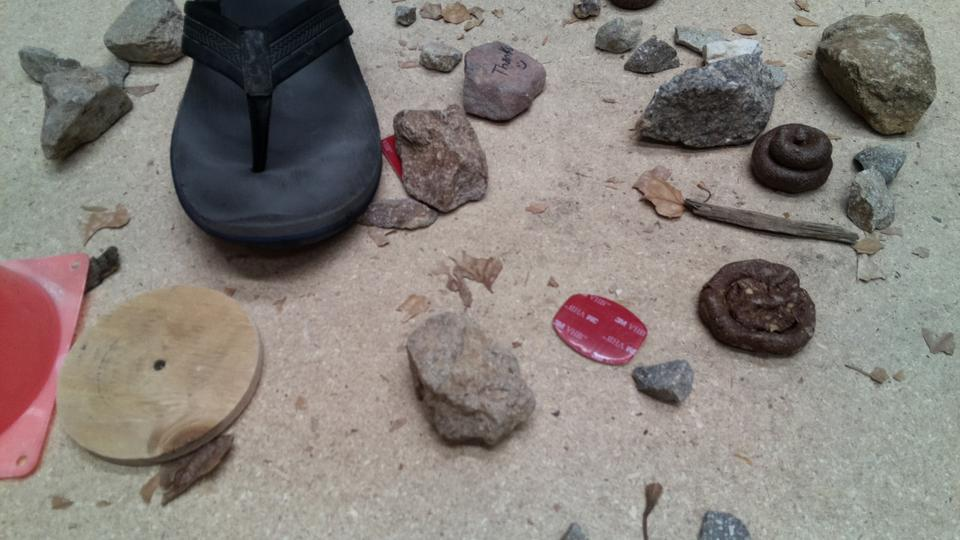poop: (694, 255, 821, 358), (748, 121, 834, 196)
